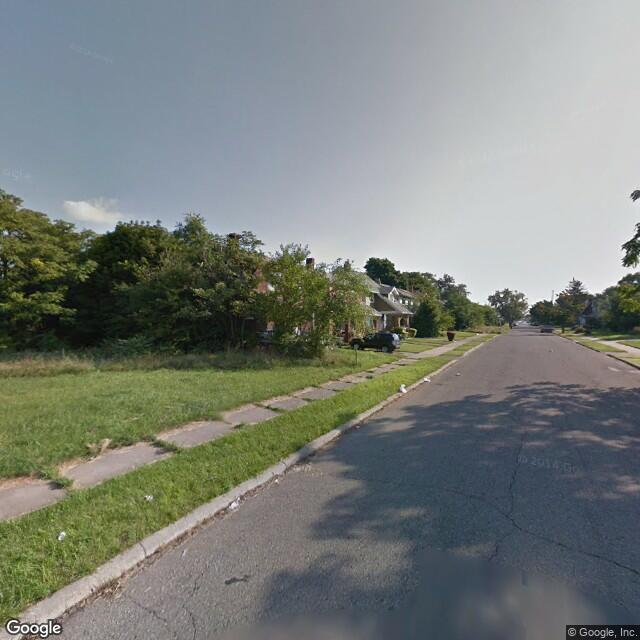litter: (392, 382, 415, 395), (226, 498, 240, 514), (139, 493, 156, 505), (418, 374, 432, 385), (55, 530, 70, 539)
